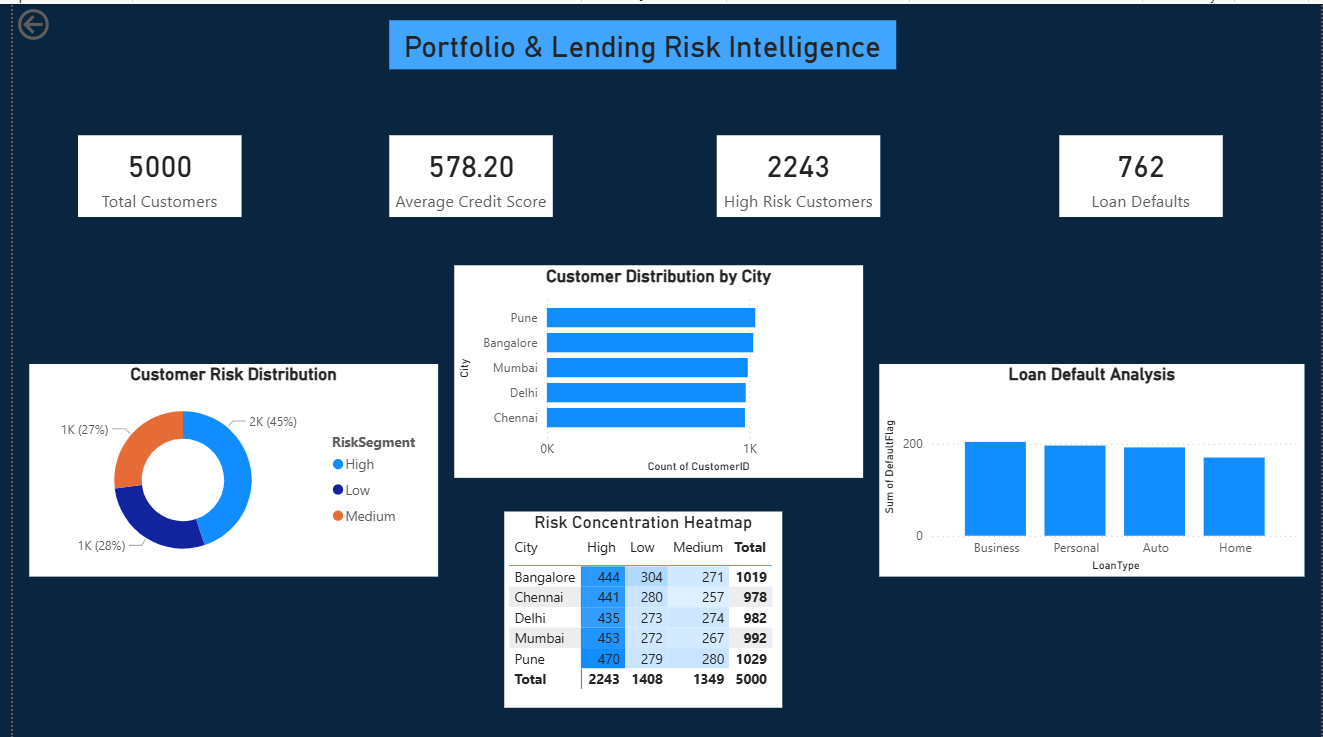

The dashboard page shown, as its layout file describes it:
{"tool":"powerbi","page":{"name":"Customer Risk Intelligence","canvas":[1280,720],"ordinal":2},"visuals":[{"type":"card","fields":{"Values":["Loans.Loan Defaults"]},"box":[1024,128,160,80],"z":0},{"type":"card","fields":{"Values":["Customers.High Risk Customers"]},"box":[688,128,160,80],"z":1000},{"type":"card","fields":{"Values":["Customers.Average Credit Score"]},"box":[368,128,160,80],"z":2000},{"type":"card","fields":{"Values":["Customers.Total Customers"]},"box":[64,128,160,80],"z":3000},{"type":"donutChart","title":"Customer Risk Distribution","fields":{"Category":["Customers.RiskSegment"],"Y":["CountNonNull(Customers.CustomerID)"]},"box":[16,352,400,208],"z":4000},{"type":"clusteredBarChart","title":"Customer Distribution by City","fields":{"Category":["Customers.City","Loans.LoanType"],"Y":["CountNonNull(Customers.CustomerID)"]},"box":[432,256,400,208],"z":5000},{"type":"columnChart","title":"Loan Default Analysis","fields":{"Category":["Loans.LoanType"],"Y":["Sum(Loans.DefaultFlag)"]},"box":[848,352,416,208],"z":6000},{"type":"actionButton","box":[0,0,100,40],"z":7000},{"type":"pivotTable","title":"Risk Concentration Heatmap","fields":{"Rows":["Customers.City"],"Columns":["Customers.RiskSegment"],"Values":["CountNonNull(Customers.CustomerID)"]},"box":[480,496,272,192],"z":8000},{"type":"card","fields":{"Values":["Accounts.Title 3"]},"box":[368,16,496,48],"z":8001}]}

Visuals, with their boxes in screenshot pixels (x1, y1, x2, y2), scaled from the page's 1280x720 canvas onto the 1323x737 screenshot:
card - Loans.Loan Defaults: Rect(1058, 131, 1224, 213)
card - Customers.High Risk Customers: Rect(711, 131, 876, 213)
card - Customers.Average Credit Score: Rect(380, 131, 546, 213)
card - Customers.Total Customers: Rect(66, 131, 232, 213)
"Customer Risk Distribution" donutChart: Rect(17, 360, 430, 573)
"Customer Distribution by City" clusteredBarChart: Rect(447, 262, 860, 475)
"Loan Default Analysis" columnChart: Rect(876, 360, 1306, 573)
actionButton: Rect(0, 0, 103, 41)
"Risk Concentration Heatmap" pivotTable: Rect(496, 508, 777, 704)
card - Accounts.Title 3: Rect(380, 16, 893, 66)
